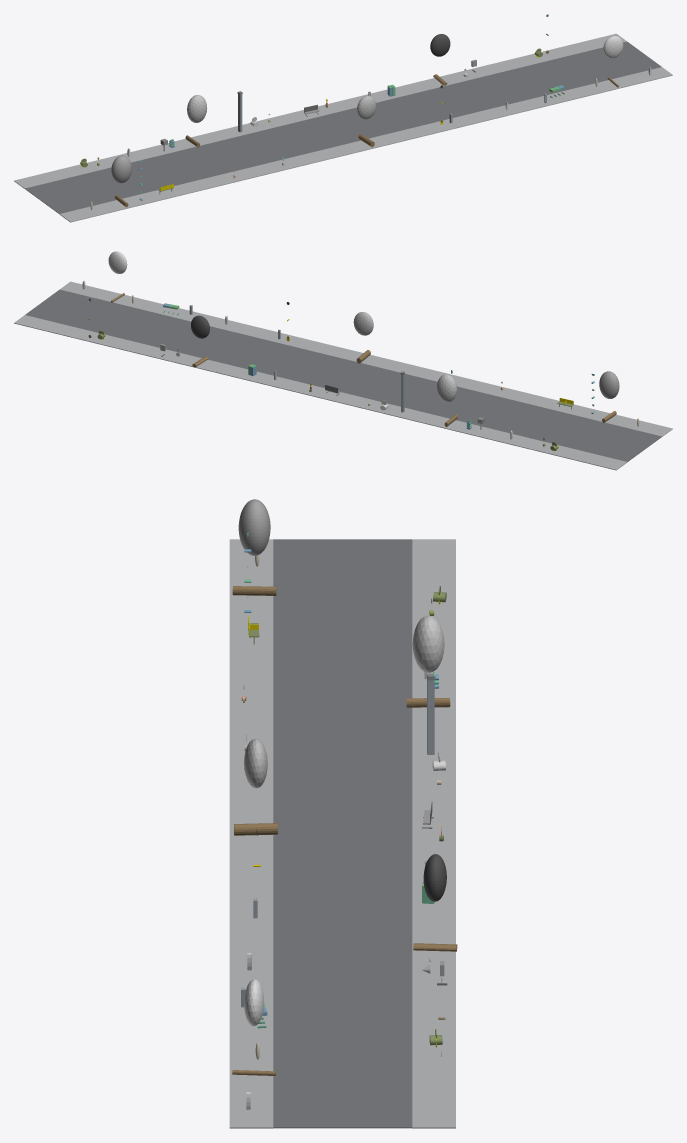
3 views of the same model, one above another, from view 1: azimuth 30°, elevation 25°; view 2: azimuth 150°, elevation 25°; view 3: azimuth 270°, elevation 25° (orthographic). The views are drawn at different scales.
Parts seen in each view (by area): view 1: road_slab, sidewalk_left, sidewalk_right, inst_0012, inst_0013, inst_0014, inst_0015, inst_0016; view 2: road_slab, sidewalk_right, sidewalk_left, inst_0013, inst_0012, inst_0014, inst_0015, inst_0016; view 3: road_slab, sidewalk_left, sidewalk_right, inst_0012, inst_0013, inst_0014, inst_0015, inst_0016.
Part boxes in pixels (x1,y1,x2,y2): road_slab: (25,41,661,213); sidewalk_left: (59,67,672,222); sidewalk_right: (14,33,626,188); inst_0012: (111,155,131,207); inst_0013: (185,95,207,147); inst_0014: (357,95,376,147); inst_0015: (430,34,450,85); inst_0016: (603,36,623,87); road_slab: (25,289,661,461); sidewalk_right: (14,315,627,470); sidewalk_left: (60,281,672,436); inst_0013: (436,374,457,426); inst_0012: (599,371,619,422); inst_0014: (353,312,373,363); inst_0015: (191,315,209,367); inst_0016: (108,251,127,302); road_slab: (273,539,412,1128); sidewalk_left: (229,539,273,1128); sidewalk_right: (412,539,455,1128); inst_0012: (232,499,276,595); inst_0013: (406,615,450,707); inst_0014: (234,738,277,835); inst_0015: (413,854,457,951); inst_0016: (232,979,275,1075).
Bounding box in the file's own units: 80 × 6.08 × 13.08.
